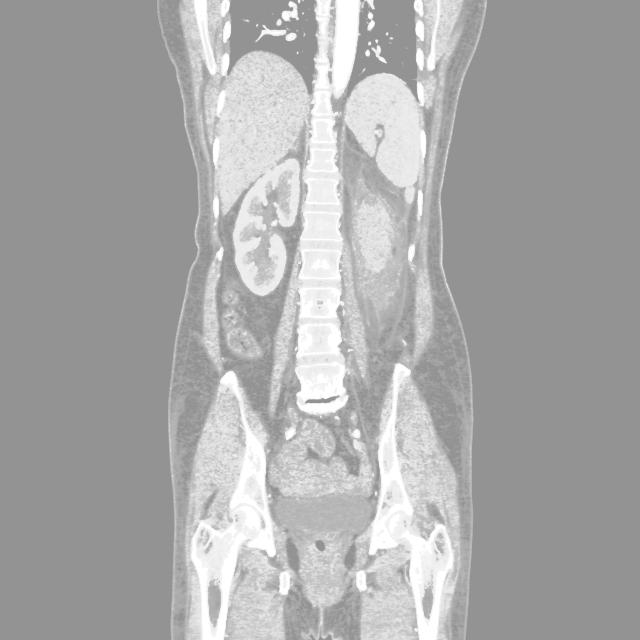TUMOR: (285, 164, 527, 399)
